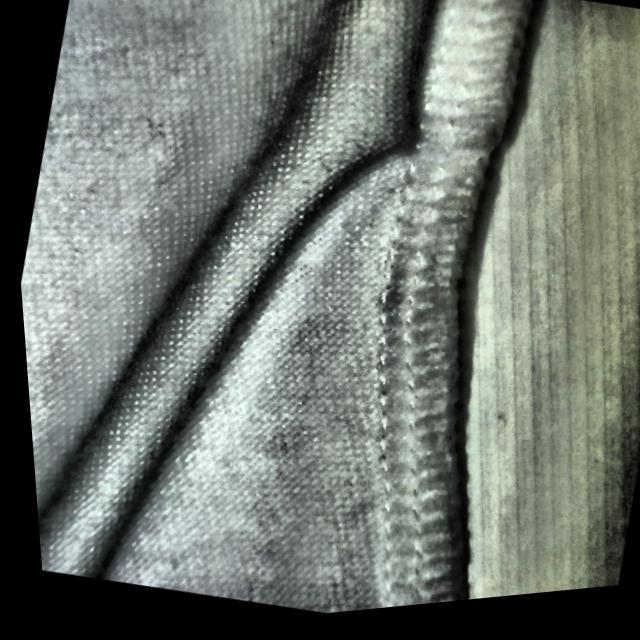seam: (261, 0, 541, 281)
